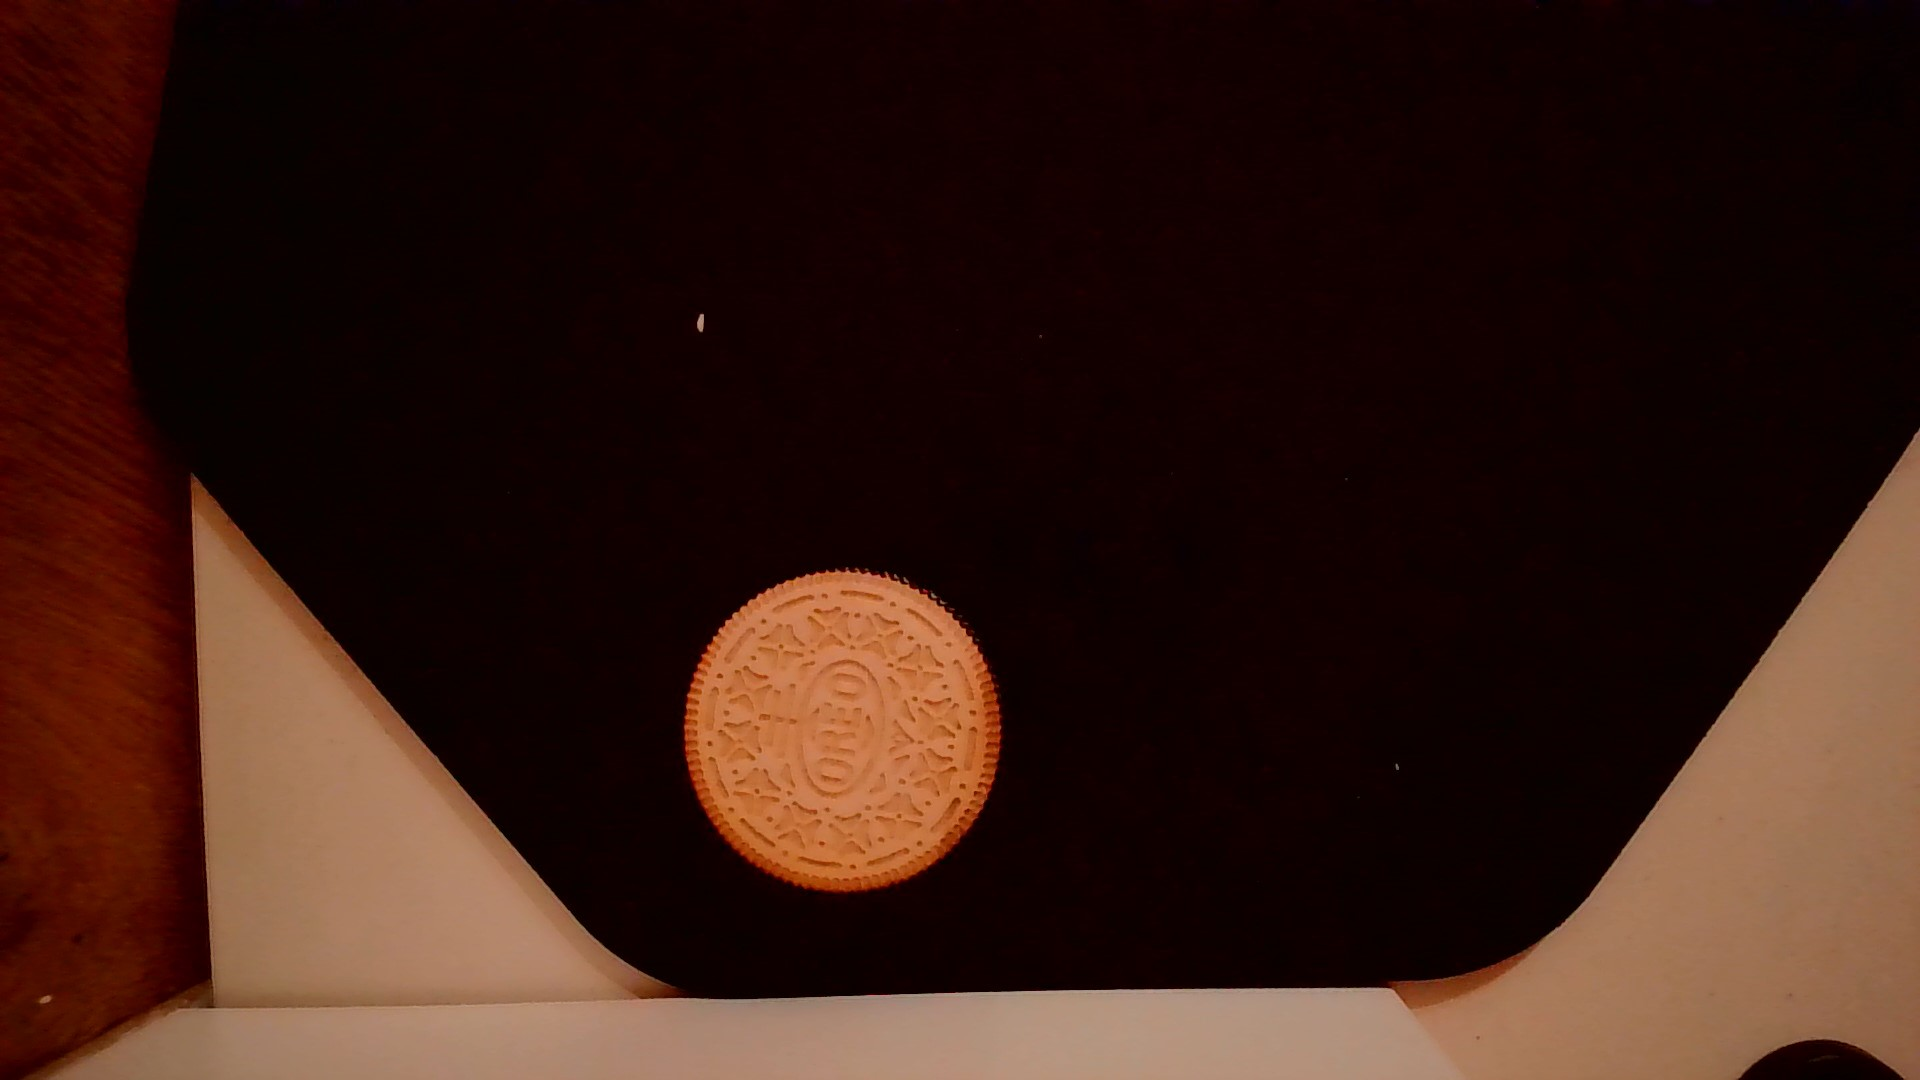Oréo: (675, 558, 1011, 899)
